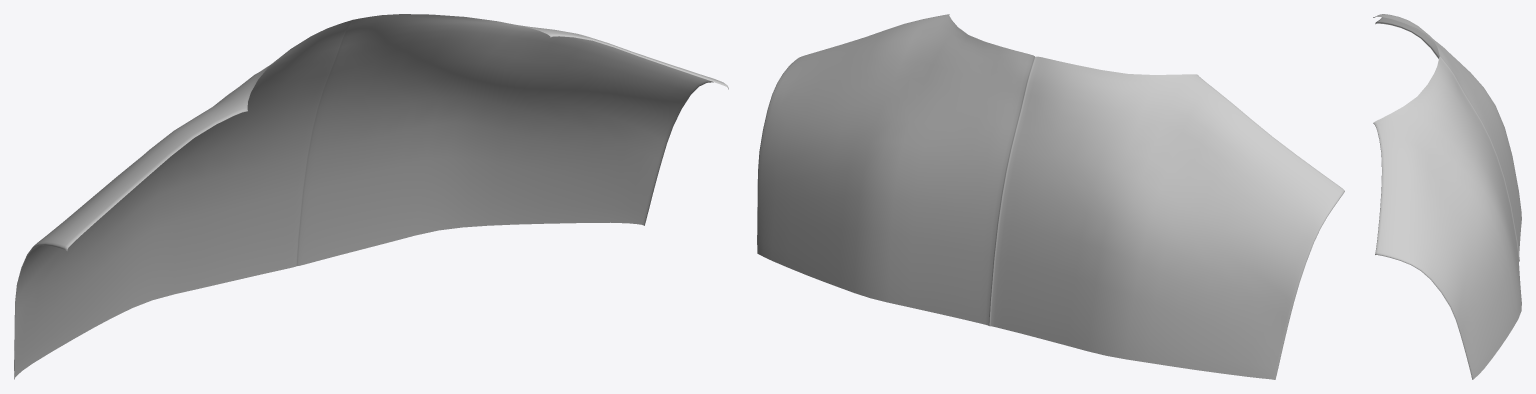
Rendered from Half_Linning.glb.
The picture shows the model from 3 angles, left to right: view 1: azimuth 30°, elevation 25°; view 2: azimuth 150°, elevation 25°; view 3: azimuth 270°, elevation 25°; orthographic projection. The views are drawn at different scales.
Visible parts, largest first — view 1: Half_Linning; view 2: Half_Linning; view 3: Half_Linning.
Boxes of the visible parts, x1,y1,x2,y2 form: Half_Linning: (14, 14, 728, 379); Half_Linning: (757, 14, 1344, 379); Half_Linning: (1373, 14, 1521, 379).
Size of the model in its own units: 0.0589 by 0.0253 by 0.0159.
1 material, 1 textured.
